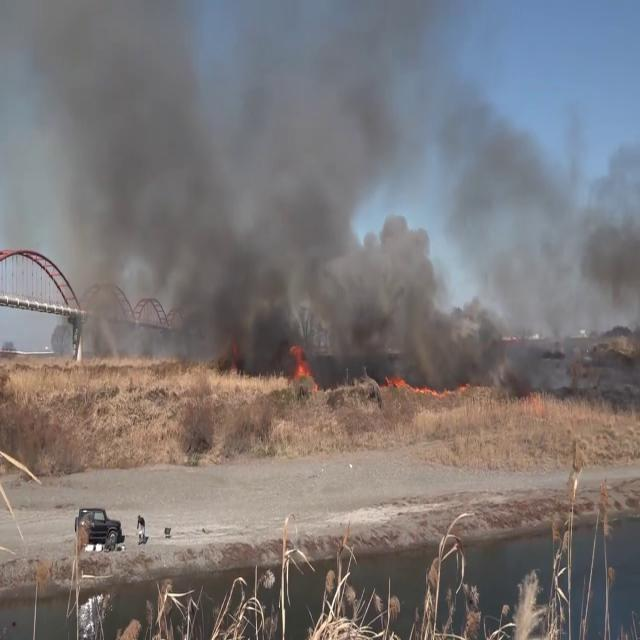Smoke: (8, 0, 596, 383), (420, 86, 640, 377)
